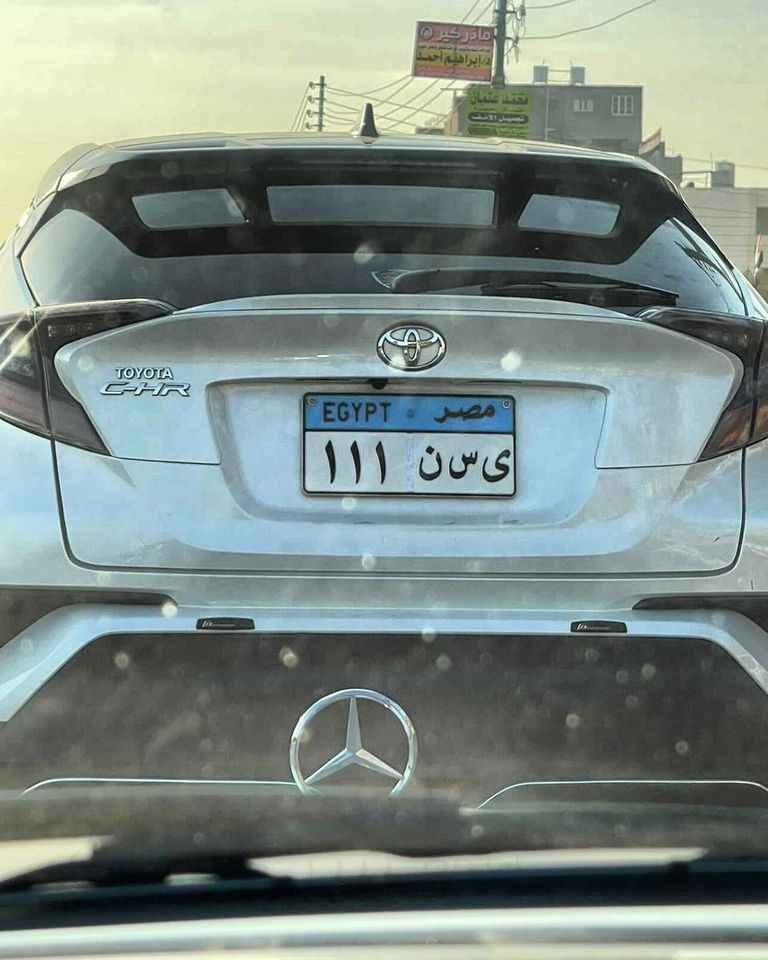carpl: (296, 393, 516, 494)
